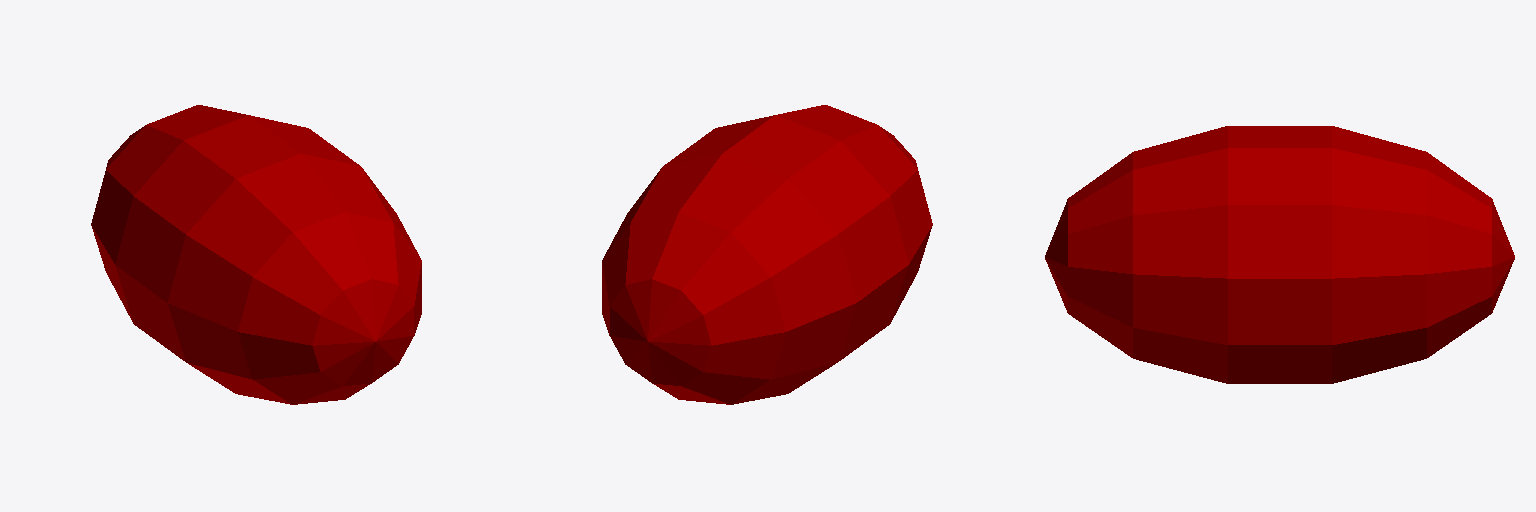
File: GunFlame2.obj
The picture shows the model from 3 angles: view 1: azimuth 30°, elevation 25°; view 2: azimuth 150°, elevation 25°; view 3: azimuth 270°, elevation 25°; orthographic projection.
Parts seen in each view (by area): view 1: GunFlame2; view 2: GunFlame2; view 3: GunFlame2.
Boxes of the visible parts, <box> form: GunFlame2: <box>91,105,421,404</box>; GunFlame2: <box>602,105,932,404</box>; GunFlame2: <box>1045,126,1514,383</box>.
Bounding box in the file's own units: 2.74 × 2.68 × 4.88.